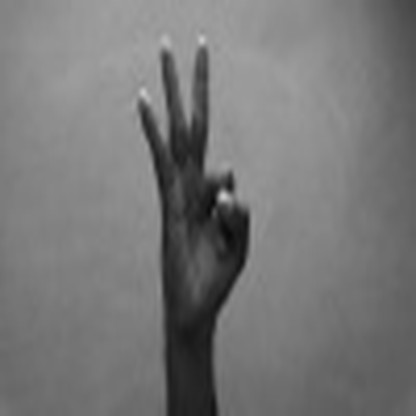f: (126, 29, 263, 336)
